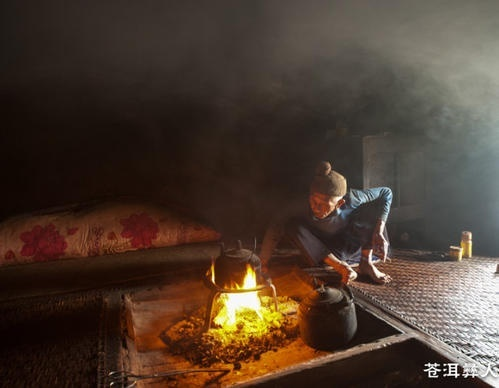fire: (210, 259, 265, 329)
